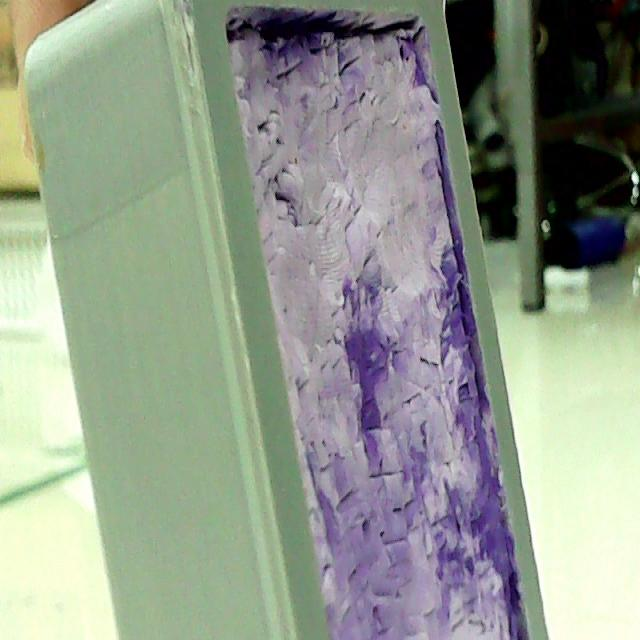block: (21, 0, 552, 640)
